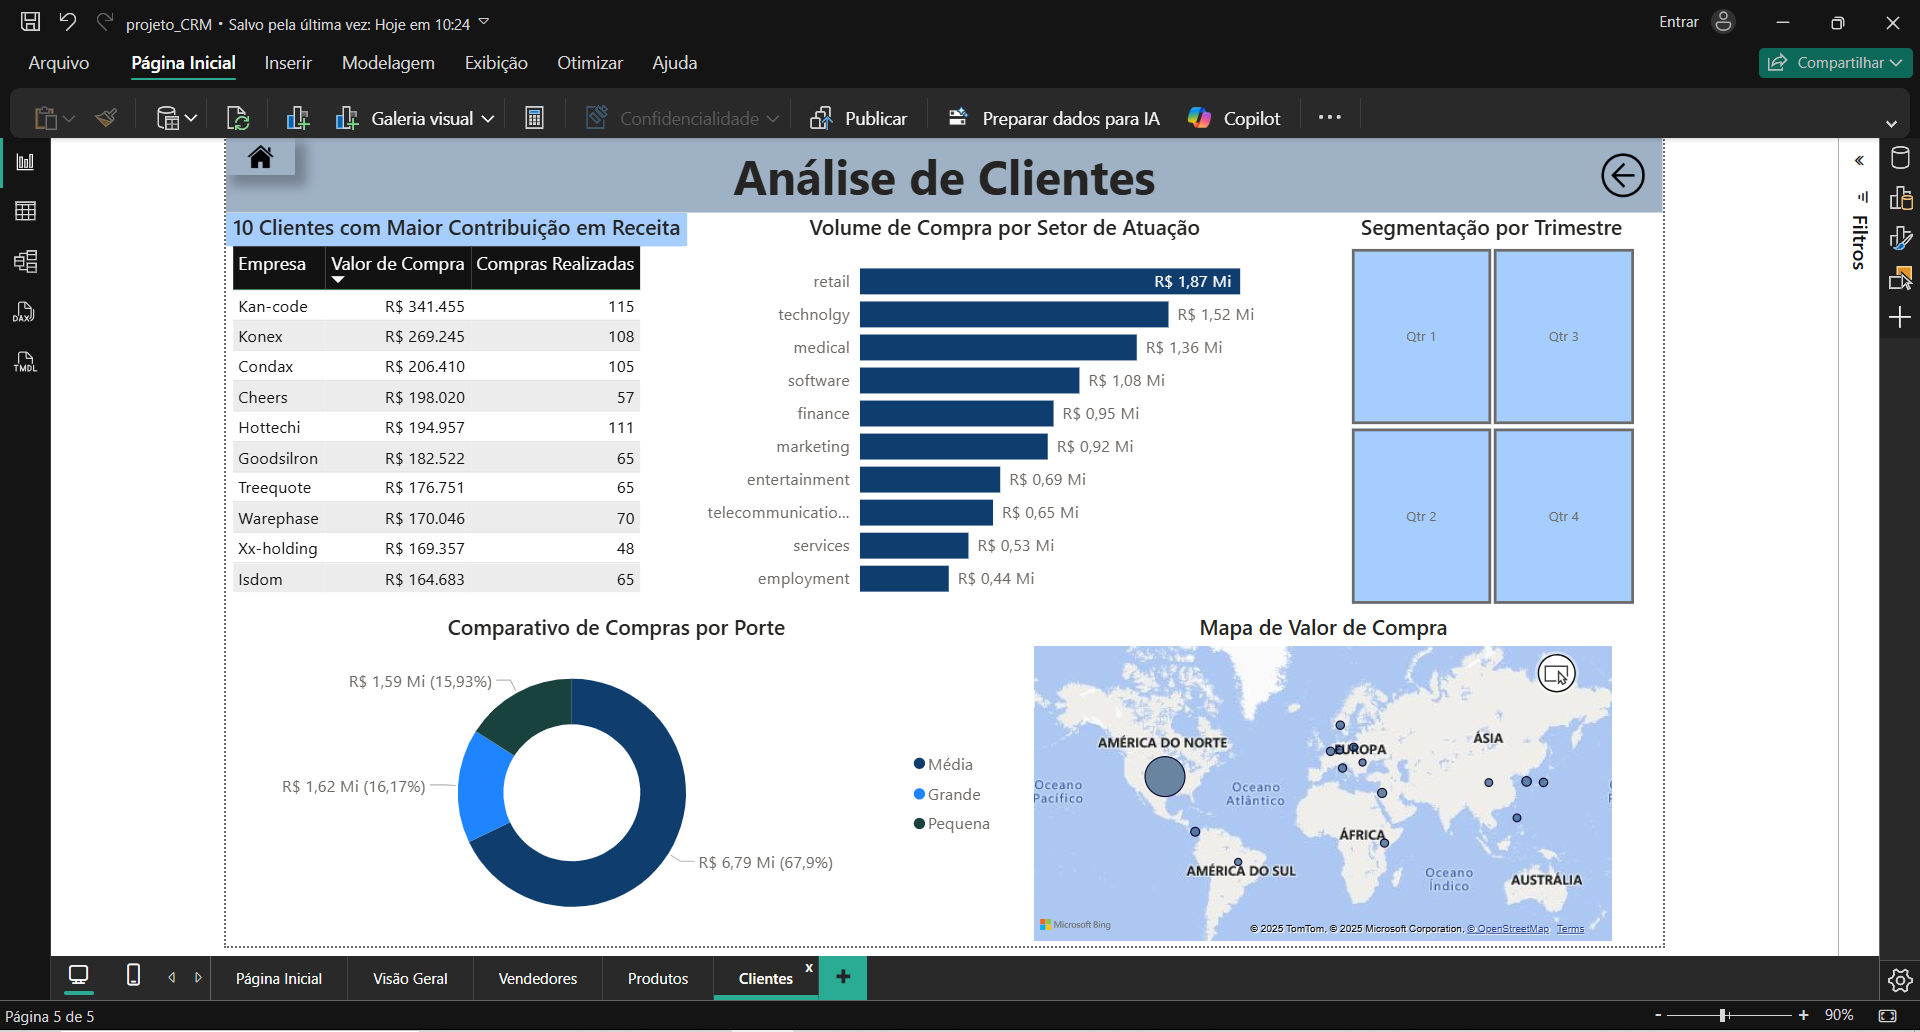

This screenshot's page, from the dashboard's own definition file:
{"tool":"powerbi","page":{"name":"Clientes","canvas":[1280,720],"ordinal":4},"visuals":[{"type":"tableEx","title":"10 Clientes com Maior Contribuição em Receita","fields":{"Values":["dClientes.account","Medidas.Receita_Total","Medidas.Vendas_Ganhas"]},"box":[0,66.3,411,354.6],"z":0},{"type":"barChart","title":"Volume de Compra por Setor de Atuação ","fields":{"Category":["dClientes.sector"],"Y":["Medidas.Receita_Total"]},"box":[411,66.3,565.6,354.6],"z":1000},{"type":"map","title":"Mapa de Valor de Compra","fields":{"Size":["Medidas.Receita_Total"],"Category":["dClientes.office_location"]},"box":[714.2,422.7,525.2,297.2],"z":2000},{"type":"donutChart","title":"Comparativo de Compras por Porte","fields":{"Category":["dClientes.porte_empresa"],"Y":["Medidas.Receita_Total"]},"box":[0,422.7,695.4,295.8],"z":3000},{"type":"textbox","box":[0,0,1279.5,66.6],"z":3001},{"type":"slicer","title":"Segmentação por Trimestre","fields":{"Values":["fProcessos.close_date.Variation.Hierarquia de datas.Trimestre"]},"box":[976.7,66.4,301.5,354.9],"z":3002},{"type":"image","box":[0,0,61.4,33.1],"z":3003},{"type":"image","box":[1207.4,0,72.4,66.3],"z":3005}]}

Visuals, with their boxes on the page's 1280x720 design canvas (x1, y1, x2, y2). These are canvas units, not pixel positions in the 1920x1032 screenshot, which may show the page scaled, cropped or inside an application window:
"10 Clientes com Maior Contribuição em Receita" tableEx: left=0, top=66, right=411, bottom=421
"Volume de Compra por Setor de Atuação " barChart: left=411, top=66, right=977, bottom=421
"Mapa de Valor de Compra" map: left=714, top=423, right=1239, bottom=720
"Comparativo de Compras por Porte" donutChart: left=0, top=423, right=695, bottom=718
textbox: left=0, top=0, right=1280, bottom=67
"Segmentação por Trimestre" slicer: left=977, top=66, right=1278, bottom=421
image: left=0, top=0, right=61, bottom=33
image: left=1207, top=0, right=1280, bottom=66
